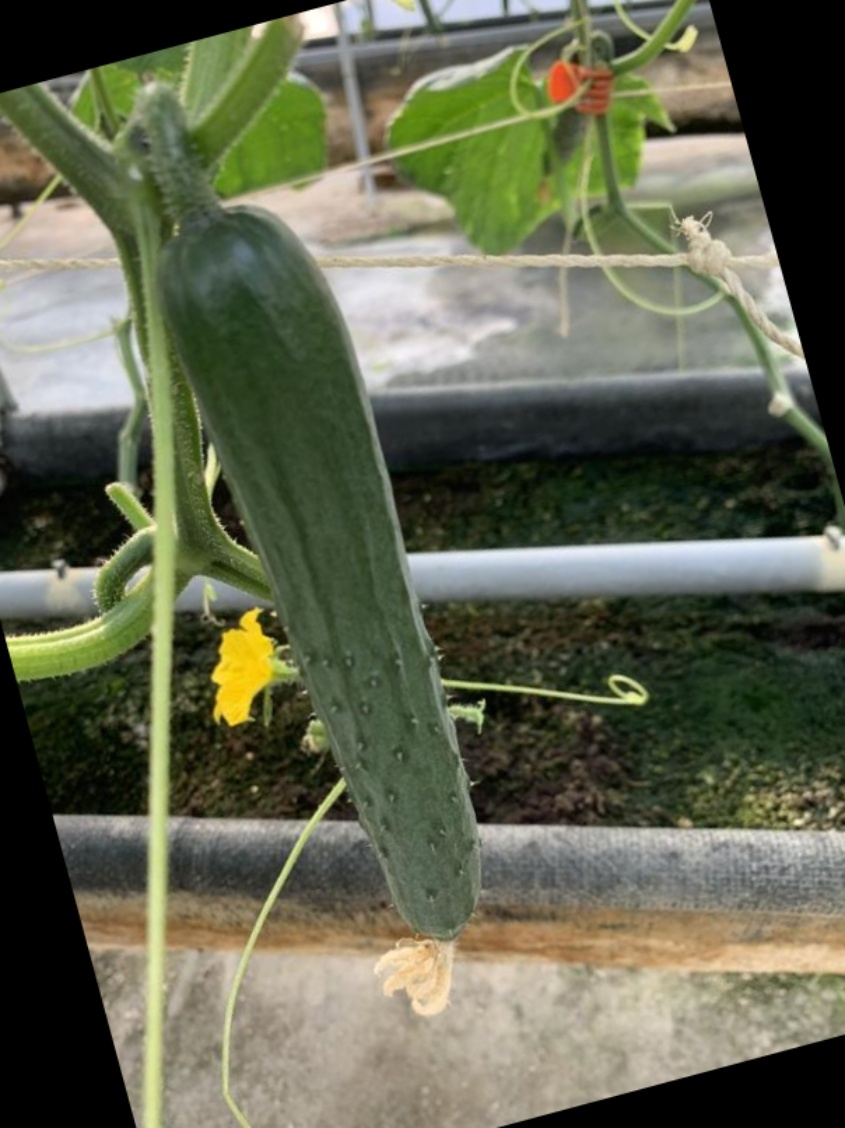mature: (146, 203, 502, 941)
